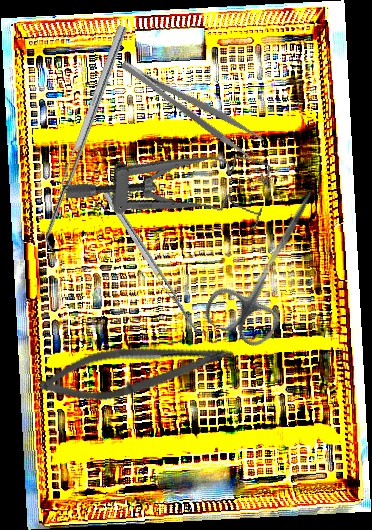Dressing Forceps: (118, 46, 265, 162)
Iris Scissors: (199, 174, 340, 352)
Micro Scissor: (35, 322, 238, 415)
Spatula Surgical: (38, 25, 136, 252), (103, 187, 209, 339)
Speculum: (64, 115, 274, 249)
